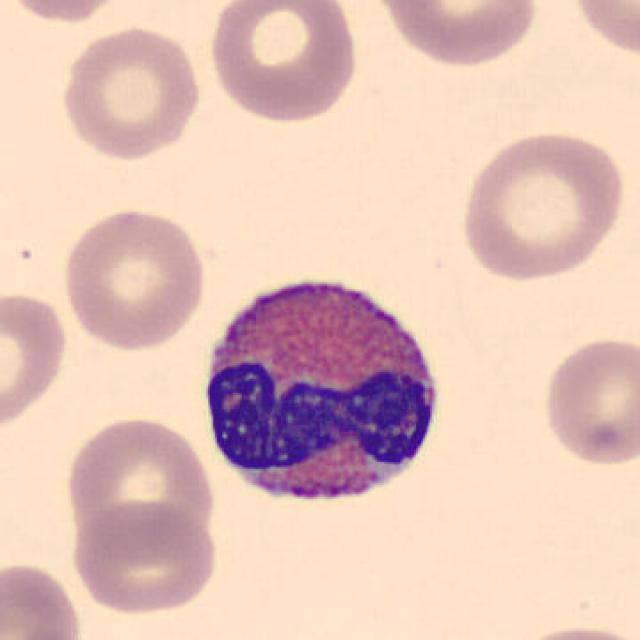Eosinophil: (196, 258, 452, 528)
RBC: (455, 125, 628, 284), (57, 202, 210, 352), (60, 412, 218, 554), (55, 21, 206, 162), (202, 0, 362, 127), (68, 499, 222, 617), (539, 331, 638, 469), (366, 0, 544, 71), (0, 286, 71, 436), (0, 557, 87, 640), (563, 0, 640, 63), (0, 0, 135, 26), (507, 622, 638, 640), (1, 624, 90, 640)
